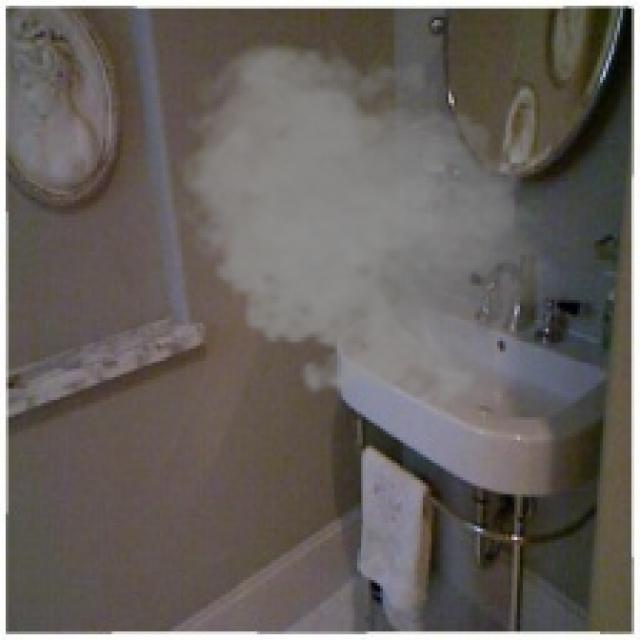Smoke: (168, 37, 574, 420)
